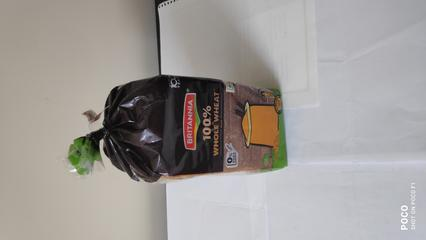bread: (90, 76, 303, 177)
